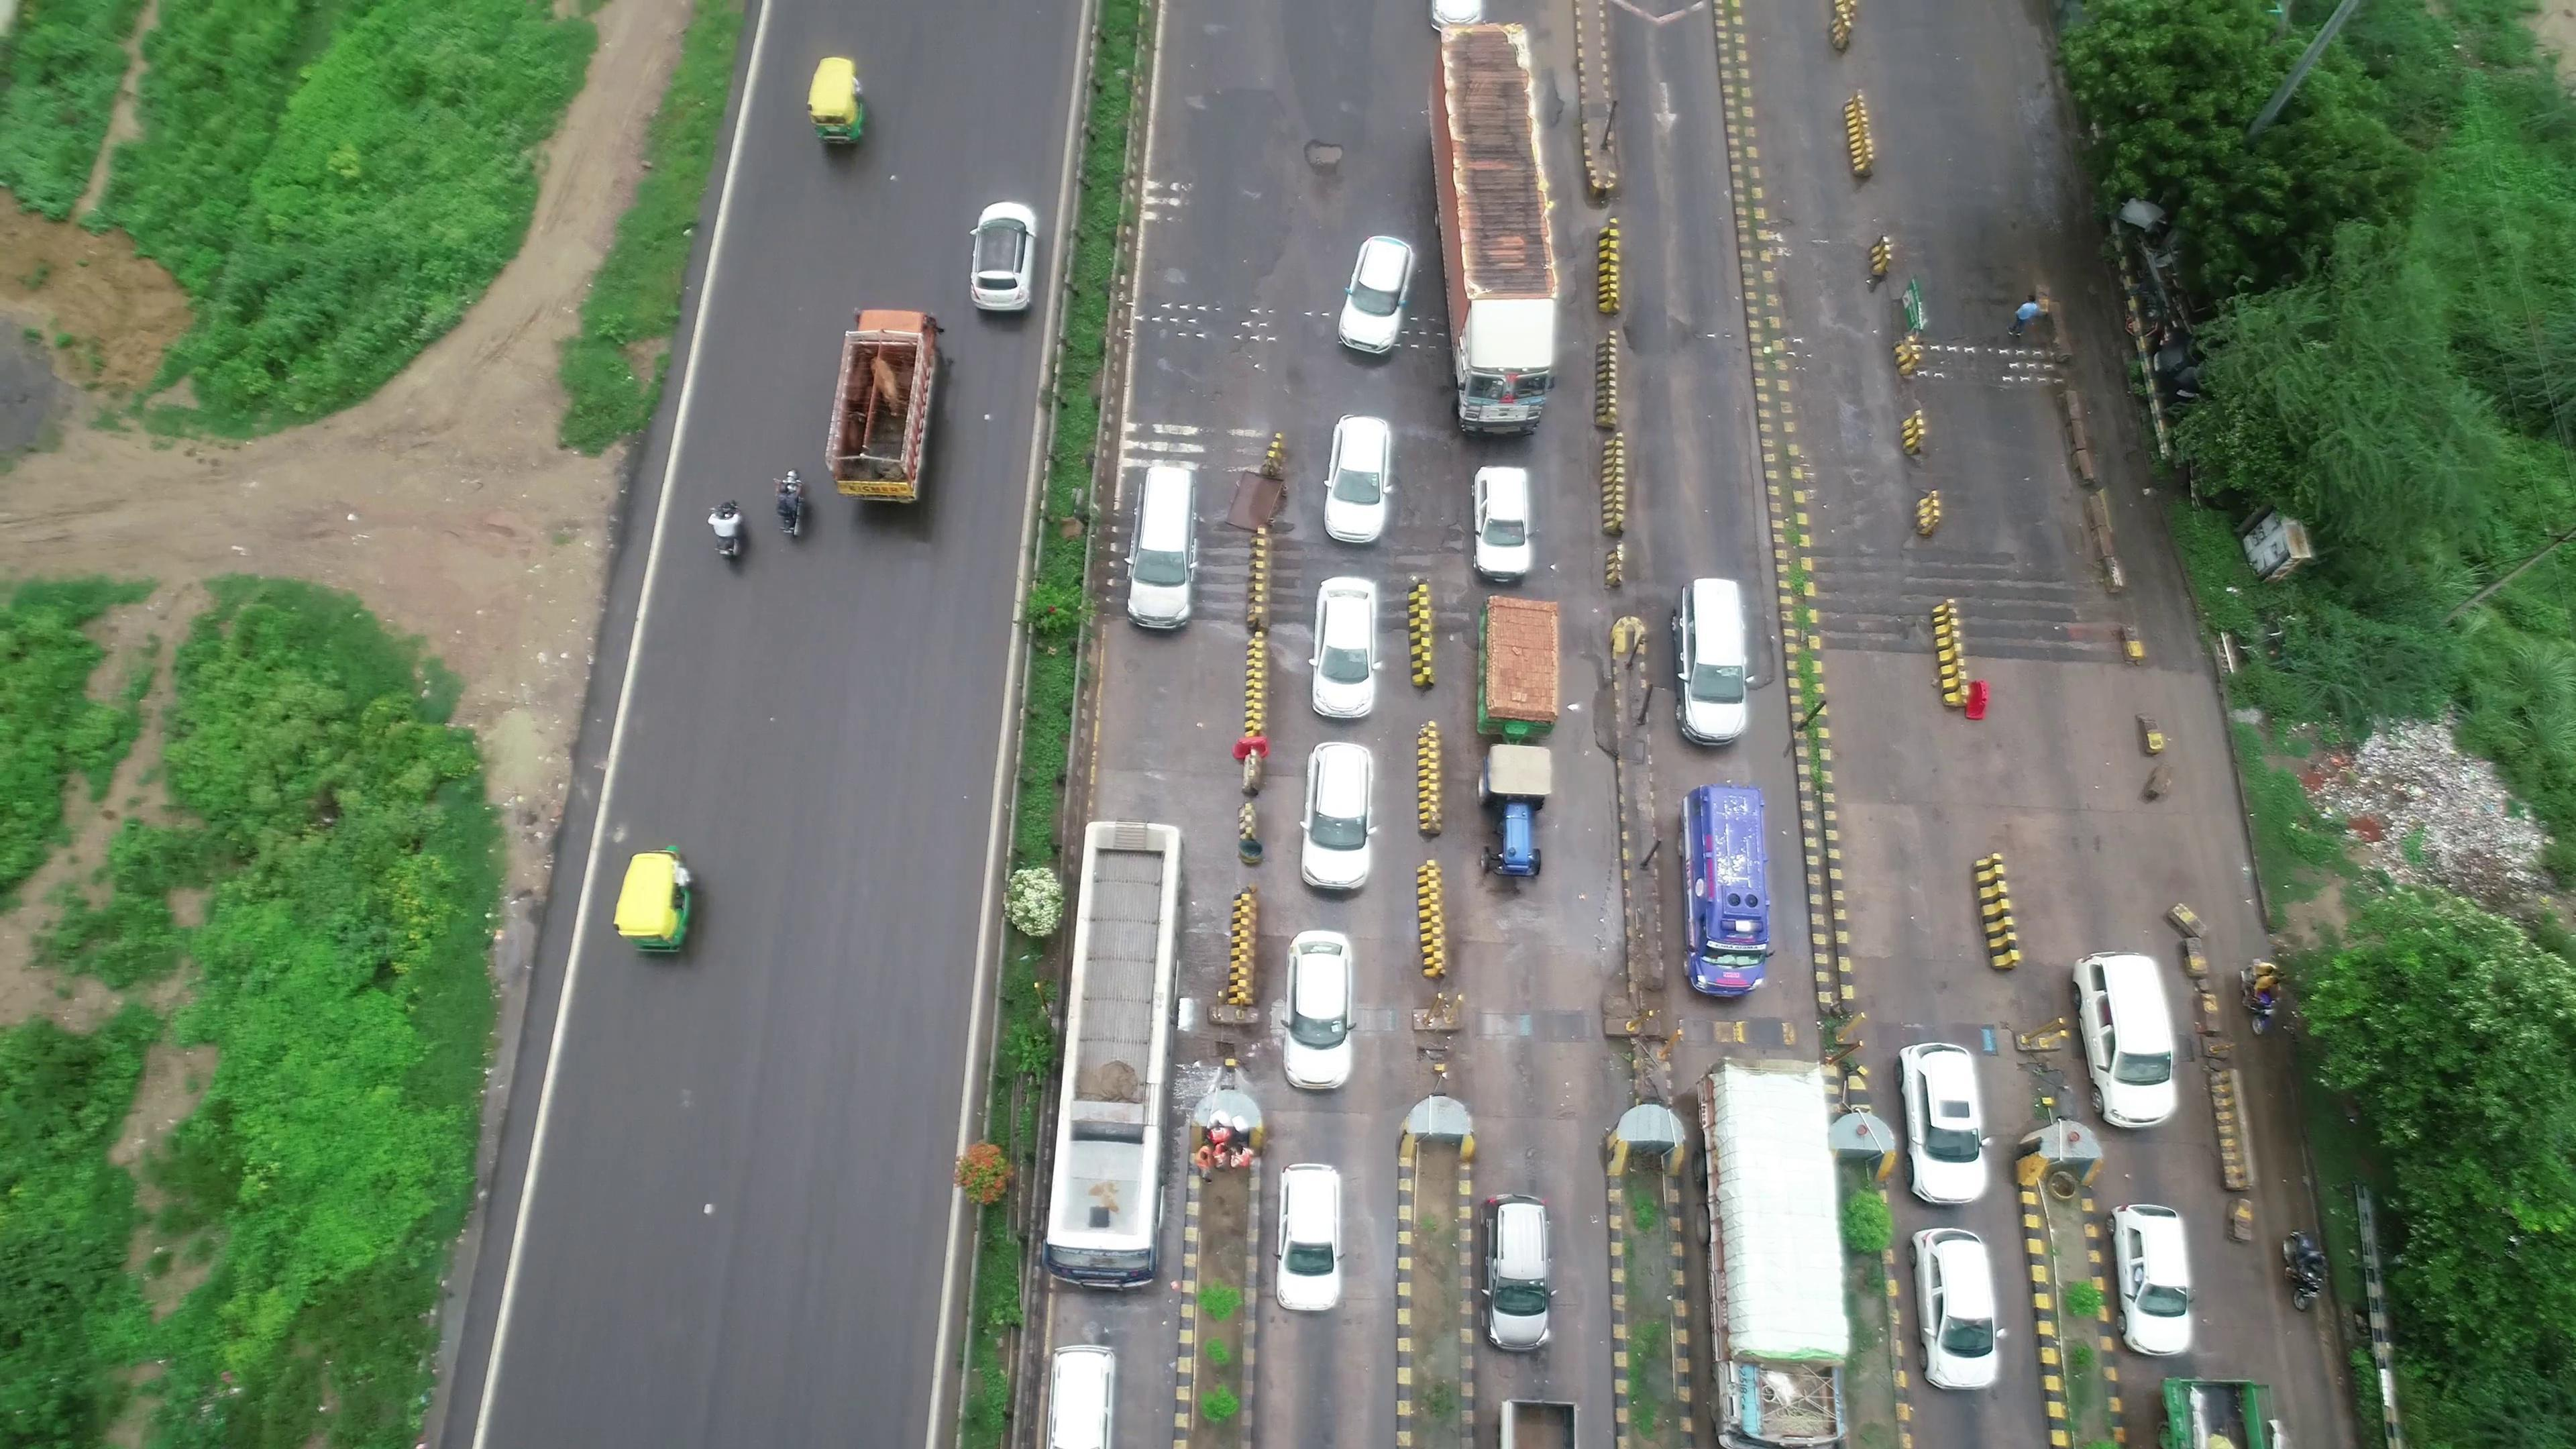Potholes: (1251, 88, 1369, 188)
Road_side_garbage: (2330, 711, 2534, 925)
